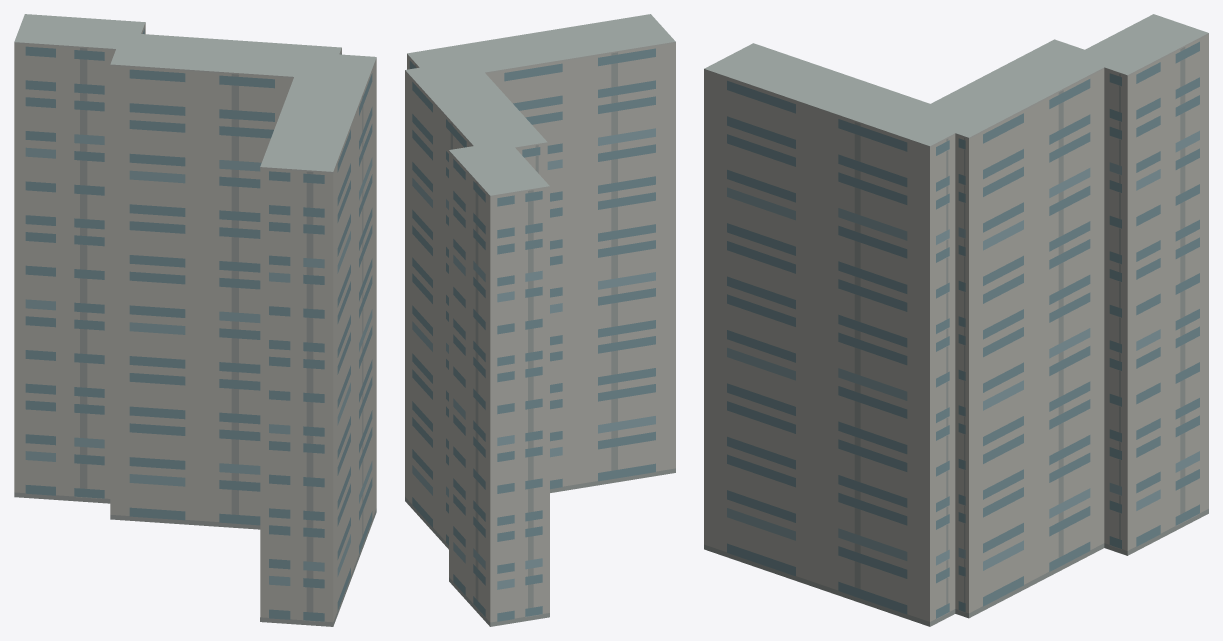
Rendered from residential-c075dac8-a667-4f2f-b45c-86b308d9b99c.glb.
3 renders of one model, left to right at view 1: azimuth 30°, elevation 25°; view 2: azimuth 150°, elevation 25°; view 3: azimuth 270°, elevation 25°, orthographic. The views are drawn at different scales.
Visible parts, largest first — view 1: residential-c075dac8-a667-4f2f-b45c-86b308d9b99c.tmp; view 2: residential-c075dac8-a667-4f2f-b45c-86b308d9b99c.tmp; view 3: residential-c075dac8-a667-4f2f-b45c-86b308d9b99c.tmp.
Boxes of the visible parts, <box> form: residential-c075dac8-a667-4f2f-b45c-86b308d9b99c.tmp: <box>14,14,376,626</box>; residential-c075dac8-a667-4f2f-b45c-86b308d9b99c.tmp: <box>405,14,675,626</box>; residential-c075dac8-a667-4f2f-b45c-86b308d9b99c.tmp: <box>704,14,1208,626</box>.
Size of the model in its own units: 47.84 by 81 by 77.11.
